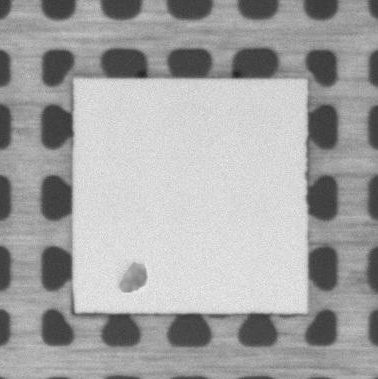DIE_INK: (112, 256, 152, 300)
